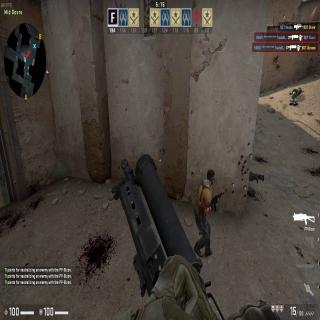CT-Body: (196, 170, 214, 272)
CT-Head: (206, 169, 214, 185)
